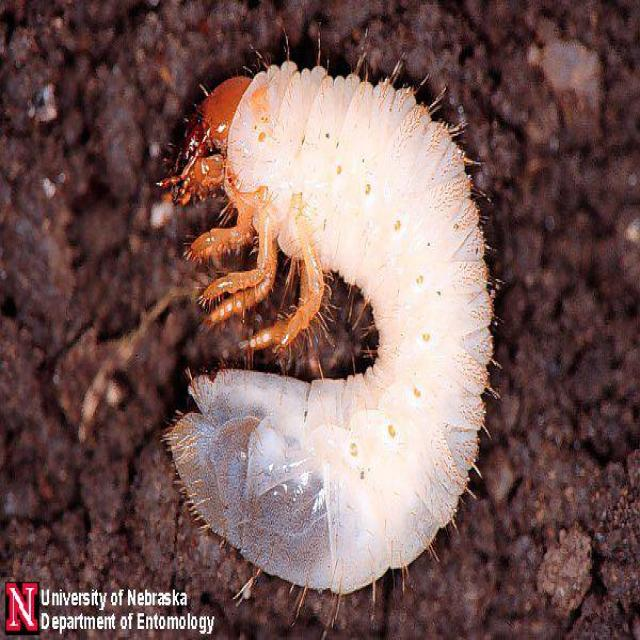Grub-Adult-: (138, 34, 498, 596)
